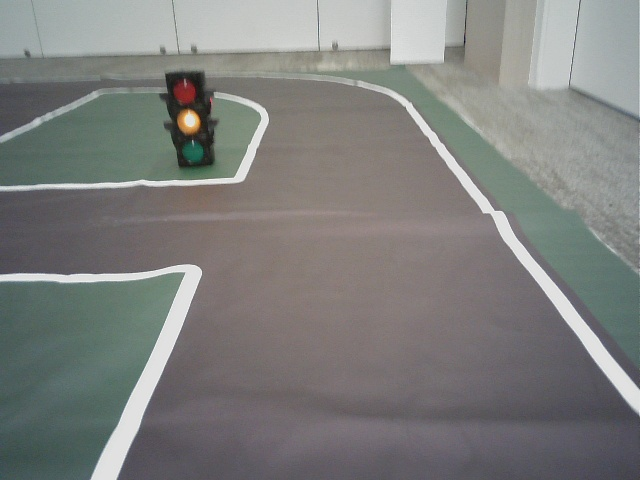yellow: (169, 74, 208, 163)
